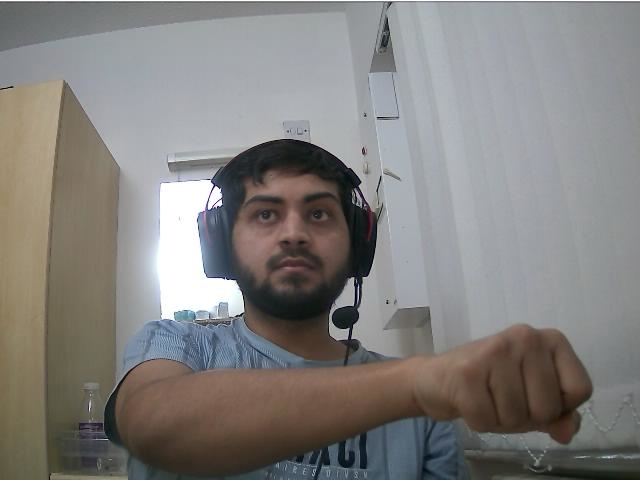hold: (451, 324, 595, 445)
